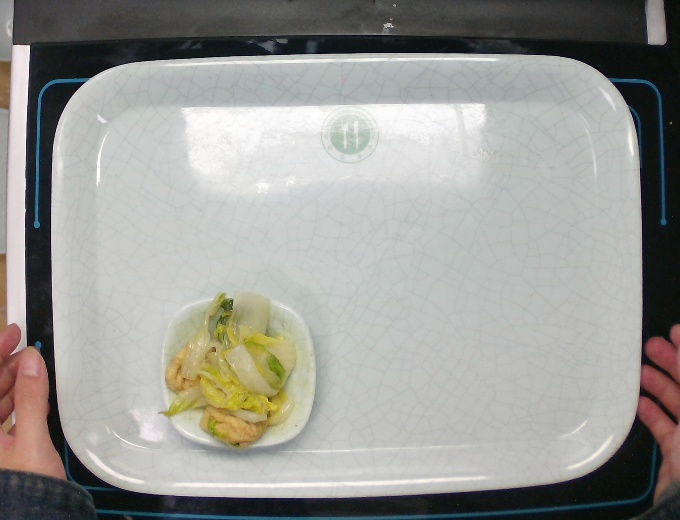JYsf-Si_Fang_Die: (157, 291, 318, 450)
